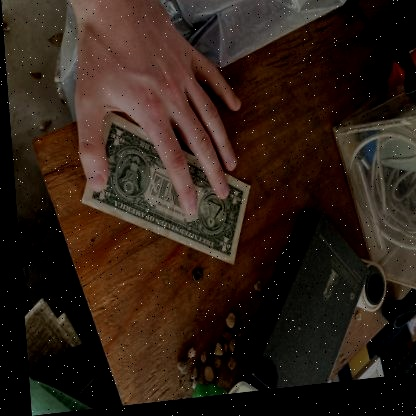one-back: (82, 113, 252, 271)
